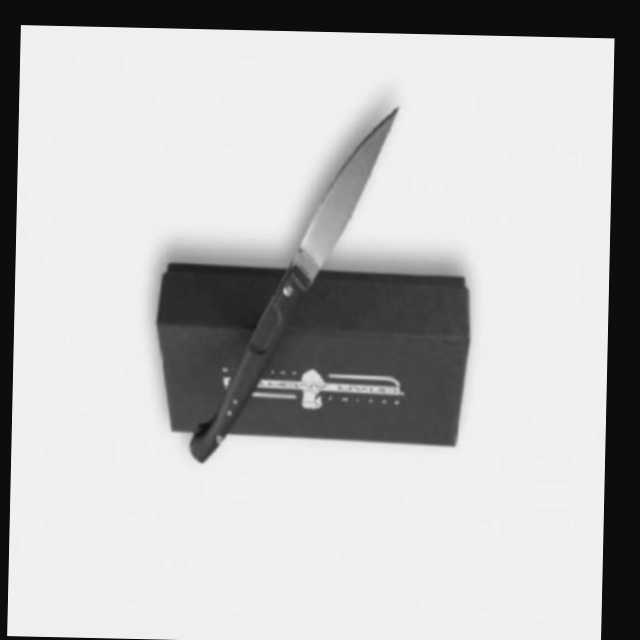Sharp-Object: (191, 102, 402, 469)
